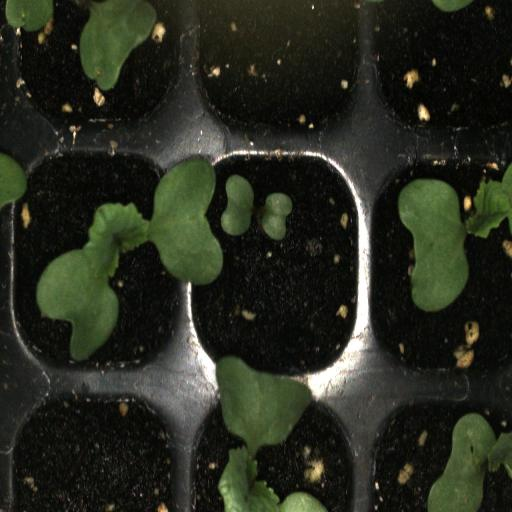Folha: (216, 356, 327, 512), (427, 413, 512, 512), (80, 0, 157, 91), (221, 174, 254, 236)
Germinacao: (10, 142, 188, 382), (189, 142, 363, 384), (368, 144, 512, 382)
